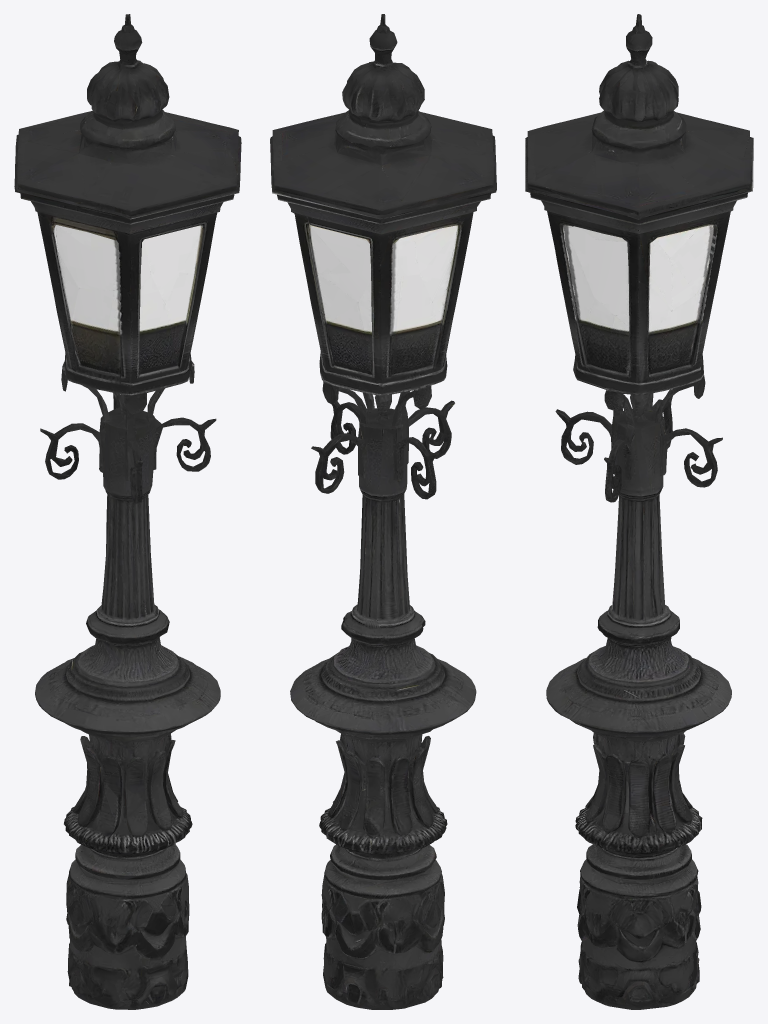
Rendered from lamp.glb.
The picture shows the model from 3 angles, left to right: view 1: azimuth 30°, elevation 25°; view 2: azimuth 150°, elevation 25°; view 3: azimuth 270°, elevation 25°; orthographic projection.
Size of the model in its own units: 0.4607 by 1.9 by 0.4044.
1 material, 1 textured.
